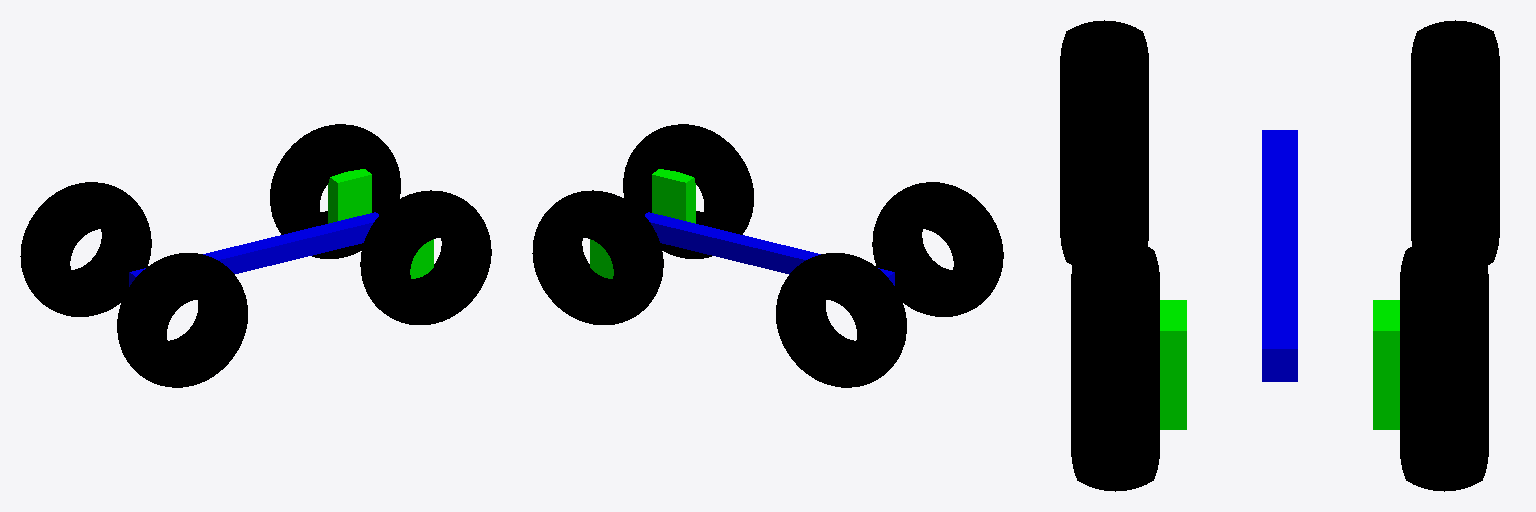
robot.urdf — quad:
<?xml version="1.0" ?>
<!-- =================================================================================== -->
<!-- |    This document was autogenerated by xacro from quad.xacro                     | -->
<!-- |    EDITING THIS FILE BY HAND IS NOT RECOMMENDED                                 | -->
<!-- =================================================================================== -->
<robot name="quad" xmlns:xacro="http://www.ros.org/wiki/xacro">
  <!--  -->
  xacro:include filename=&quot;/opt/ros/kinetic/share/hector_sensors_description/urdf/hokuyo_utm30lx.urdf.xacro&quot;/--&gt;
	
  <!-- This file unifies all sensors that can be used on simulation, defined as xacro:macros -->
  <material name="aluminum">
    <color rgba="0.5 0.5 0.5 1"/>
  </material>
  <!--xacro:include filename="$(find hector_sensors_description)/urdf/generic_camera.urdf.xacro"/-->
  <!-- Physical Material Macros -->
  <material name="Red">
    <color rgba="1.0 0 0 1.0"/>
  </material>
  <material name="Green">
    <color rgba="0 1.0 0 1.0"/>
  </material>
  <material name="Blue">
    <color rgba="0 0 1.0 0.5"/>
  </material>
  <material name="Black">
    <color rgba="0 0 0 1.0"/>
  </material>
  <material name="Aqua">
    <color rgba="0 255 255 1.0"/>
  </material>
  <gazebo>
    <plugin filename="libgazebo_ros_control.so" name="gazebo_ros_control">
      <robotNamespace>/quad</robotNamespace>
    </plugin>
  </gazebo>
  <!-- base_link must have geometry so that its axes can be displayed in rviz. -->
  <!-- Chassis -->
  <link name="base_link">
    <inertial>
      <mass value="0.270"/>
      <origin rpy="0 0 0" xyz="0 0 0"/>
      <inertia ixx="2.632e-4" ixy="0" ixz="0" iyy="2.632e-4" iyz="0" izz="1.62e-4"/>
    </inertial>
    <visual>
      <origin rpy="0 0 0" xyz="-0.3535 0 0"/>
      <geometry>
        <box size="0.707 0.05 0.05"/>
      </geometry>
      <material name="Blue"/>
    </visual>
    <collision>
      <origin rpy="0 0 0" xyz="-0.3535 0 0"/>
      <geometry>
        <box size="0.707 0.05 0.05"/>
      </geometry>
    </collision>
  </link>
  <gazebo reference="base_link">
    <material>Gazebo/Blue</material>
  </gazebo>
  <!-- Base footprint is on the ground under the robot -->
  <link name="base_footprint"/>
  <joint name="base_footprint_joint" type="fixed">
    <origin rpy="0 0 0" xyz="-0.707 0 -0.173"/>
    <parent link="base_link"/>
    <child link="base_footprint"/>
  </joint>
  <!-- IMU -->
  <link name="imu_link"/>
  <joint name="imu_joint" type="fixed">
    <origin rpy="0 0 0" xyz="-0.3535 0 0"/>
    <parent link="base_link"/>
    <child link="imu_link"/>
  </joint>
  <!-- Camera -->
  <link name="camera_link"/>
  <joint name="camera_joint" type="fixed">
    <origin rpy="0 0 0" xyz="0 0 0.2"/>
    <parent link="base_link"/>
    <child link="camera_link"/>
  </joint>
  <joint name="RL_wheel_joint" type="continuous">
    <axis xyz="0 1 0"/>
    <parent link="base_link"/>
    <child link="RL_wheel"/>
    <origin rpy="0 0 0" xyz="-0.707 0.24 0"/>
  </joint>
  <link name="RL_wheel">
    <inertial>
      <mass value="0.270"/>
      <origin rpy="0 0 0" xyz="0 0 0"/>
      <inertia ixx="2.632e-4" ixy="0" ixz="0" iyy="2.632e-4" iyz="0" izz="1.62e-4"/>
    </inertial>
    <visual>
      <origin rpy="0 0 1.57079633" xyz="0 0 0"/>
      <geometry>
        <mesh filename="package://quad_description/meshes/Tyre_13x5-6.STL"/>
      </geometry>
      <material name="Black"/>
    </visual>
    <collision>
      <origin rpy="1.57079633 0 0" xyz="0 0 0"/>
      <geometry>
        <cylinder length="0.122" radius="0.173"/>
      </geometry>
    </collision>
  </link>
  <gazebo reference="RL_wheel">
    <material>Gazebo/Black</material>
  </gazebo>
  <joint name="RR_wheel_joint" type="continuous">
    <axis xyz="0 1 0"/>
    <parent link="base_link"/>
    <child link="RR_wheel"/>
    <origin rpy="0 0 0" xyz="-0.707 -0.24 0"/>
  </joint>
  <link name="RR_wheel">
    <inertial>
      <mass value="0.270"/>
      <origin rpy="0 0 0" xyz="0 0 0"/>
      <inertia ixx="2.632e-4" ixy="0" ixz="0" iyy="2.632e-4" iyz="0" izz="1.62e-4"/>
    </inertial>
    <visual>
      <origin rpy="0 0 1.57079633" xyz="0 0 0"/>
      <geometry>
        <mesh filename="package://quad_description/meshes/Tyre_13x5-6.STL"/>
      </geometry>
      <material name="Black"/>
    </visual>
    <collision>
      <origin rpy="1.57079633 0 0" xyz="0 0 0"/>
      <geometry>
        <cylinder length="0.122" radius="0.173"/>
      </geometry>
    </collision>
  </link>
  <gazebo reference="RR_wheel">
    <material>Gazebo/Black</material>
  </gazebo>
  <joint name="FL_upright_joint" type="revolute">
    <limit effort="100" lower="-0.5" upper="0.5" velocity="10"/>
    <axis xyz="0 0 1"/>
    <parent link="base_link"/>
    <child link="FL_upright"/>
    <origin rpy="0 0 0" xyz="0 0.1525 0"/>
  </joint>
  <link name="FL_upright">
    <inertial>
      <mass value="0.270"/>
      <origin rpy="0 0 0" xyz="0 0 0"/>
      <inertia ixx="2.632e-4" ixy="0" ixz="0" iyy="2.632e-4" iyz="0" izz="1.62e-4"/>
    </inertial>
    <visual>
      <origin xyz="0 0 0"/>
      <geometry>
        <box size="0.1 0.05 0.15"/>
      </geometry>
      <material name="Green"/>
    </visual>
    <!--collision>
            <origin xyz="0 0 0" />
            <geometry>
                <box size="0.1 0.05 0.15" />
            </geometry>
        </collision-->
  </link>
  <joint name="FL_wheel_joint" type="continuous">
    <axis xyz="0 1 0"/>
    <parent link="FL_upright"/>
    <child link="FL_wheel"/>
    <origin rpy="0 0 0" xyz="0 0.0725 0"/>
  </joint>
  <link name="FL_wheel">
    <inertial>
      <mass value="0.270"/>
      <origin rpy="0 0 0" xyz="0 0 0"/>
      <inertia ixx="2.632e-4" ixy="0" ixz="0" iyy="2.632e-4" iyz="0" izz="1.62e-4"/>
    </inertial>
    <visual>
      <origin rpy="0 0 1.57079633" xyz="0 0 0"/>
      <geometry>
        <mesh filename="package://quad_description/meshes/Tyre_13x5-6.STL"/>
      </geometry>
      <material name="Black"/>
    </visual>
    <collision>
      <origin rpy="1.57079633 0 0" xyz="0 0 0"/>
      <geometry>
        <cylinder length="0.122" radius="0.173"/>
      </geometry>
    </collision>
  </link>
  <gazebo reference="FL_wheel">
    <material>Gazebo/Black</material>
  </gazebo>
  <joint name="FR_upright_joint" type="revolute">
    <limit effort="100" lower="-0.5" upper="0.5" velocity="10"/>
    <axis xyz="0 0 1"/>
    <parent link="base_link"/>
    <child link="FR_upright"/>
    <origin rpy="0 0 0" xyz="0 -0.1525 0"/>
  </joint>
  <link name="FR_upright">
    <inertial>
      <mass value="0.270"/>
      <origin rpy="0 0 0" xyz="0 0 0"/>
      <inertia ixx="2.632e-4" ixy="0" ixz="0" iyy="2.632e-4" iyz="0" izz="1.62e-4"/>
    </inertial>
    <visual>
      <origin xyz="0 0 0"/>
      <geometry>
        <box size="0.1 0.05 0.15"/>
      </geometry>
      <material name="Green"/>
    </visual>
    <!--collision>
            <origin xyz="0 0 0" />
            <geometry>
                <box size="0.1 0.05 0.15" />
            </geometry>
        </collision-->
  </link>
  <joint name="FR_wheel_joint" type="continuous">
    <axis xyz="0 1 0"/>
    <parent link="FR_upright"/>
    <child link="FR_wheel"/>
    <origin rpy="0 0 0" xyz="0 -0.0725 0"/>
  </joint>
  <link name="FR_wheel">
    <inertial>
      <mass value="0.270"/>
      <origin rpy="0 0 0" xyz="0 0 0"/>
      <inertia ixx="2.632e-4" ixy="0" ixz="0" iyy="2.632e-4" iyz="0" izz="1.62e-4"/>
    </inertial>
    <visual>
      <origin rpy="0 0 1.57079633" xyz="0 0 0"/>
      <geometry>
        <mesh filename="package://quad_description/meshes/Tyre_13x5-6.STL"/>
      </geometry>
      <material name="Black"/>
    </visual>
    <collision>
      <origin rpy="1.57079633 0 0" xyz="0 0 0"/>
      <geometry>
        <cylinder length="0.122" radius="0.173"/>
      </geometry>
    </collision>
  </link>
  <gazebo reference="FR_wheel">
    <material>Gazebo/Black</material>
  </gazebo>
  <transmission name="$FR_steering_trans">
    <type>transmission_interface/SimpleTransmission</type>
    <joint name="FR_upright_joint">
      <hardwareInterface>hardware_interface/EffortJointInterface</hardwareInterface>
    </joint>
    <actuator name="FR_steering_act">
      <mechanicalReduction>1</mechanicalReduction>
    </actuator>
  </transmission>
  <transmission name="$FL_steering_trans">
    <type>transmission_interface/SimpleTransmission</type>
    <joint name="FL_upright_joint">
      <hardwareInterface>hardware_interface/EffortJointInterface</hardwareInterface>
    </joint>
    <actuator name="FL_steering_act">
      <mechanicalReduction>1</mechanicalReduction>
    </actuator>
  </transmission>
  <transmission name="RR_wheel_axle_trans">
    <type>transmission_interface/SimpleTransmission</type>
    <joint name="RR_wheel_joint">
      <hardwareInterface>hardware_interface/VelocityJointInterface</hardwareInterface>
    </joint>
    <actuator name="RR_wheel_axle_act">
      <mechanicalReduction>1</mechanicalReduction>
    </actuator>
  </transmission>
  <transmission name="RL_wheel_axle_trans">
    <type>transmission_interface/SimpleTransmission</type>
    <joint name="RL_wheel_joint">
      <hardwareInterface>hardware_interface/VelocityJointInterface</hardwareInterface>
    </joint>
    <actuator name="RL_wheel_axle_act">
      <mechanicalReduction>1</mechanicalReduction>
    </actuator>
  </transmission>
  <!--hokuyo_utm30lx_model name="hokuyo_laser" parent="base_link">
     <origin xyz="+0.222 0 0.003" rpy="0 0 0" />
    </hokuyo_utm30lx_model-->
  <joint name="hokuyo_base_joint" type="fixed">
    <!-- FRONT MOUNT  -->
    <!-- origin xyz="0.29 0 0.1" -->
    <!-- TOP MOUNT -->
    <!-- origin xyz="0.0 0.0 0.325"-->
    <origin rpy="0 0 0" xyz="+0.222 0 0.003"/>
    <parent link="base_link"/>
    <child link="hokuyo_base_link"/>
  </joint>
  <link name="hokuyo_base_link">
    <visual>
      <origin rpy="0 0 0" xyz="0 0 0"/>
      <geometry>
        <mesh filename="package://robotnik_sensors/meshes/hokuyo_utm_30lx.dae"/>
      </geometry>
    </visual>
    <inertial>
      <mass value="1e-5"/>
      <origin rpy="0 0 0" xyz="0 0 0"/>
      <inertia ixx="1e-6" ixy="0" ixz="0" iyy="1e-6" iyz="0" izz="1e-6"/>
    </inertial>
  </link>
  <link name="hokuyo_link">
	</link>
  <joint name="hokuyo_joint" type="fixed">
    <parent link="hokuyo_base_link"/>
    <child link="hokuyo_link"/>
    <origin rpy="0 0 0" xyz="0.00 0 0.055"/>
  </joint>
  <gazebo reference="hokuyo_link">
    <sensor name="hokuyo_sensor" type="ray">
      <pose>0 0 0 0 0 0</pose>
      <visualize>true</visualize>
      <update_rate>30</update_rate>
      <ray>
        <scan>
          <horizontal>
            <samples>1081</samples>
            <resolution>1</resolution>
            <min_angle>-2.35</min_angle>
            <max_angle>2.35</max_angle>
          </horizontal>
        </scan>
        <range>
          <min>0.10</min>
          <max>30.0</max>
          <resolution>0.01</resolution>
        </range>
        <noise>
          <type>gaussian</type>
          <mean>0.0</mean>
          <stddev>0.01</stddev>
        </noise>
      </ray>
      <plugin filename="libgazebo_ros_laser.so" name="hokuyo_controller">
        <topicName>front_laser/scan</topicName>
        <frameName>/hokuyo_link</frameName>
      </plugin>
    </sensor>
  </gazebo>
  <!-- ANTENNA GPS -->
  <joint name="gps_joint" type="fixed">
    <axis xyz="0 1 0"/>
    <origin rpy="0 0 0" xyz="-0.15 0 0.5"/>
    <parent link="base_link"/>
    <child link="gps_base_link"/>
  </joint>
  <link name="gps_base_link">
    <inertial>
      <mass value="0.001"/>
      <origin rpy="0 0 0" xyz="0 0 0"/>
      <inertia ixx="0.0001" ixy="0" ixz="0" iyy="0.000001" iyz="0" izz="0.0001"/>
    </inertial>
    <visual>
      <origin rpy="0 0 0" xyz="0 0 0"/>
      <material name="gps_color">
        <color rgba="1 1 1 1"/>
      </material>
      <geometry>
        <mesh filename="package://robotnik_sensors/meshes/antenna_3GO16.stl" scale="1.0 1.0 1.0"/>
      </geometry>
    </visual>
    <collision>
      <origin rpy="0 0 0" xyz="0 0 0"/>
      <geometry>
        <mesh filename="package://robotnik_sensors/meshes/antenna_3GO16.stl" scale="1.0 1.0 1.0"/>
      </geometry>
    </collision>
  </link>
  <gazebo reference="gps_base_link">
    <material>Gazebo/White</material>
    <gravity>true</gravity>
  </gazebo>
  <gazebo>
    <plugin filename="libhector_gazebo_ros_gps.so" name="gps_controller">
      <alwaysOn>1</alwaysOn>
      <updateRate>5</updateRate>
      <bodyName>gps_base_link</bodyName>
      <!-- must be the link of the gps device, not the base_link or base_footprint -->
      <frameId>/gps_base_link</frameId>
      <topicName>fix</topicName>
      <!-- Robotnik position at Fuente del Jarro -->
      <referenceLatitude>39.5080331</referenceLatitude>
      <referenceLongitude>-0.4619816</referenceLongitude>
      <!-- To set heading in ENU orientation (degrees) -->
      <referenceHeading>90</referenceHeading>
      <velocityTopicName>fix_velocity</velocityTopicName>
      <drift>0.0 0.0 0.0</drift>
      <!--<drift>0.0001 0.0001 0.0001</drift>-->
      <!--<drift>0.3 0.3 0.3</drift>-->
      <gaussianNoise>0.1 0.1 0.1</gaussianNoise>
      <!--<gaussianNoise>0.00001 0.00001 0.00001</gaussianNoise>-->
      <velocityDrift>0.00001 0.00001 0.00001</velocityDrift>
      <!--<velocityGaussianNoise>0.1 0.1 0.1</velocityGaussianNoise>-->
      <velocityGaussianNoise>0.00001 0.00001 0.00001</velocityGaussianNoise>
    </plugin>
  </gazebo>
  <!--generic_camera_model name="web_camera" parent="base_link">
     <origin xyz="0 0 0.01" rpy="0 0 0" />
  	</generic_camera_model-->
</robot>

--- Render facts (derived) ---
Views: 3 orthographic renders of the robot side by side, from view 1: azimuth 30°, elevation 25°; view 2: azimuth 150°, elevation 25°; view 3: azimuth 270°, elevation 25°.
Model quad with 13 links and 12 joints (2 revolute, 4 continuous, 6 fixed), rooted at base_link, posed all joints at 0.
Links seen in each view (by area): view 1: RR_wheel, FR_wheel, RL_wheel, FL_wheel, base_link, FL_upright, FR_upright; view 2: RL_wheel, FL_wheel, RR_wheel, FR_wheel, base_link, FR_upright, FL_upright; view 3: FL_wheel, FR_wheel, RL_wheel, RR_wheel, base_link, FL_upright, FR_upright.
Boxes of the visible links, x1,y1,x2,y2 form: RR_wheel: (117,253,247,387); FR_wheel: (360,190,491,324); RL_wheel: (20,182,151,316); FL_wheel: (270,124,400,258); base_link: (129,212,378,286); FL_upright: (328,169,371,223); FR_upright: (410,239,433,278); RL_wheel: (776,253,906,387); FL_wheel: (532,190,663,324); RR_wheel: (872,182,1003,316); FR_wheel: (623,124,753,258); base_link: (645,212,894,285); FR_upright: (652,169,695,223); FL_upright: (590,239,613,278); FL_wheel: (1400,239,1488,491); FR_wheel: (1071,239,1159,491); RL_wheel: (1411,20,1499,265); RR_wheel: (1060,20,1148,265); base_link: (1262,130,1297,381); FL_upright: (1373,300,1399,429); FR_upright: (1160,300,1186,429).
Size in the robot's own frame: 1.05 by 0.602 by 0.346 metres.
Meshes: 3 distinct files referenced, 4 mesh visuals loaded (1 binary STL); not drawn: 2 (reference not matched to a file when rendering).